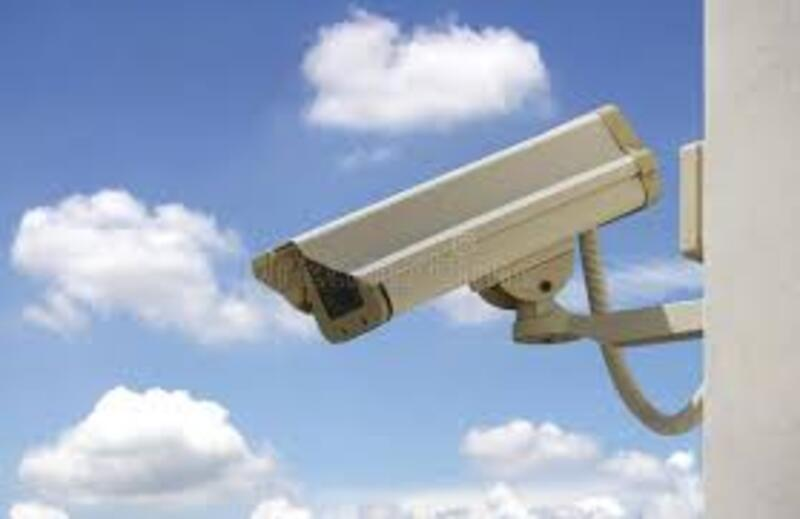box: (241, 258, 660, 389)
